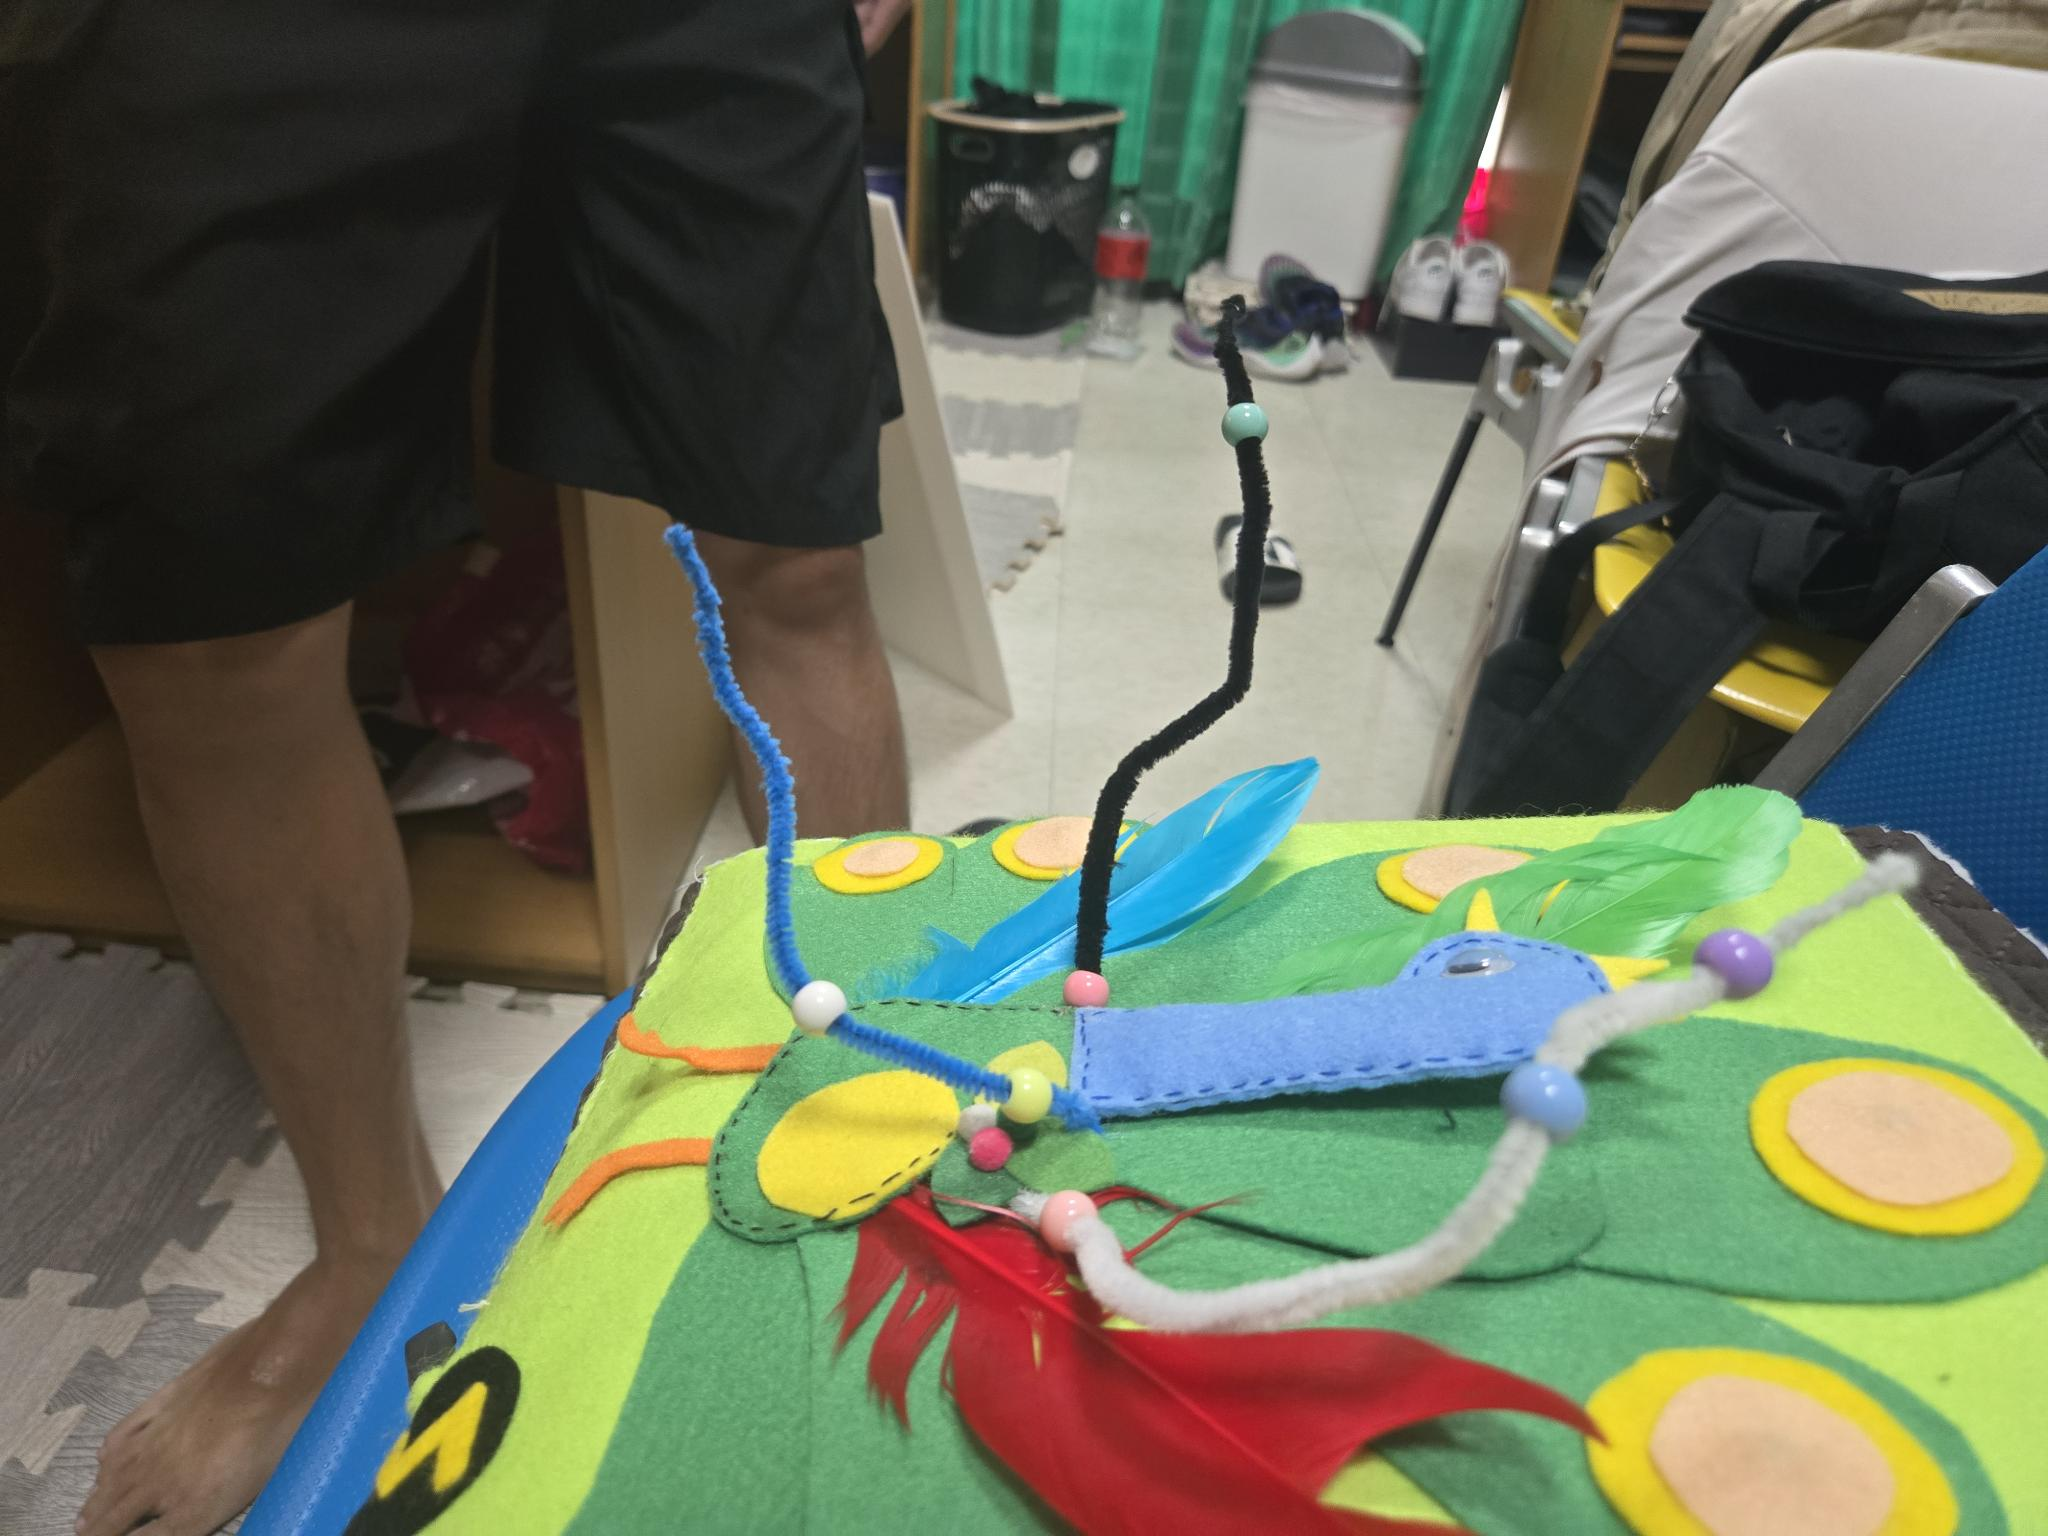bead: (1500, 1042, 1592, 1146), (1690, 918, 1782, 1004), (1035, 1170, 1103, 1268), (993, 1052, 1056, 1136), (779, 960, 848, 1036), (1214, 378, 1274, 455), (1050, 955, 1114, 1015)
